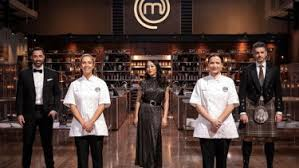Bad: (133, 53, 239, 168), (189, 42, 285, 168), (64, 53, 169, 168), (15, 46, 111, 167)
